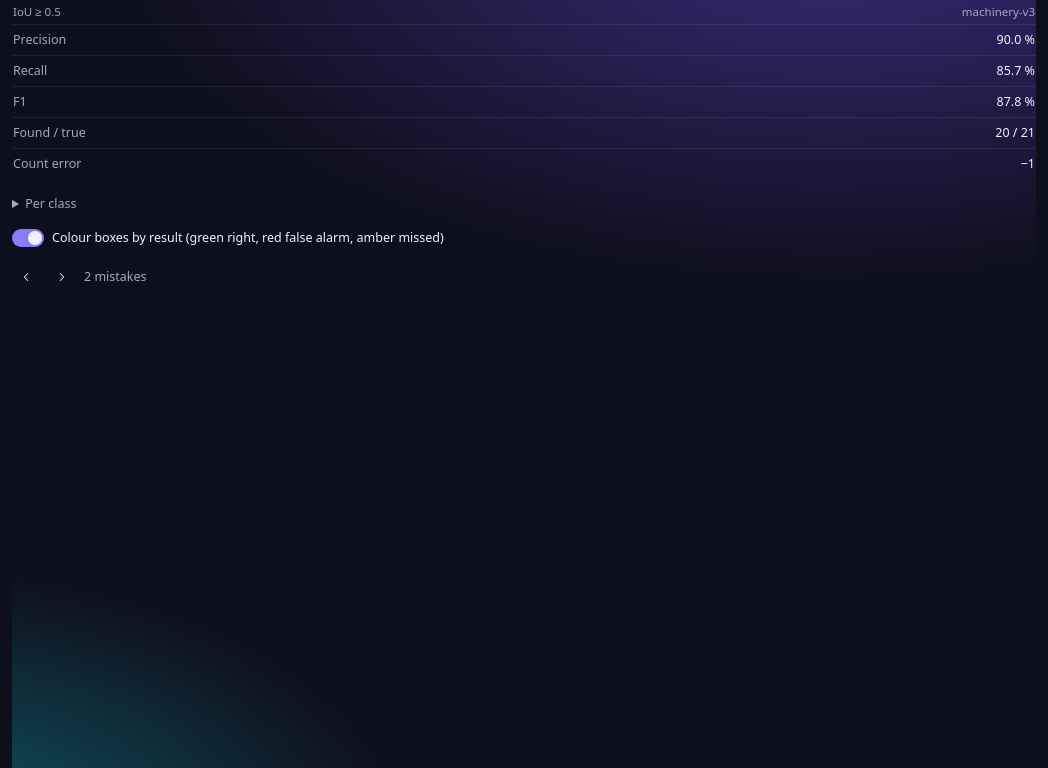
ScorePanel › steps through mistakes
Check: the text "2 mistakes" is shown, box [84,268,146,286]
What coordinates should you click on to do the following:
click the button named "Next mistake"
I would click on:
 (62, 277)
Its box is [48,263,76,291].
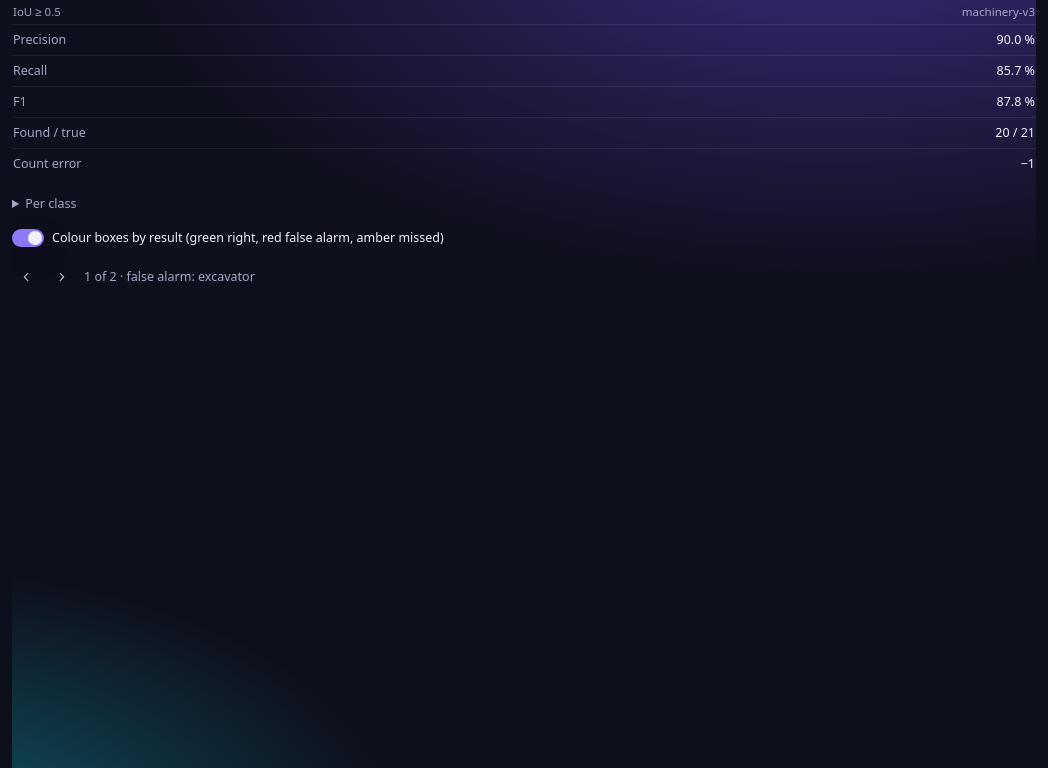
Check: the text "1 of 2 · false alarm: excavator" is shown, box [84,268,255,286]
What coordinates should you click on to do the following:
click the button named "Next mistake"
I would click on:
 (62, 277)
Its box is [48,263,76,291].
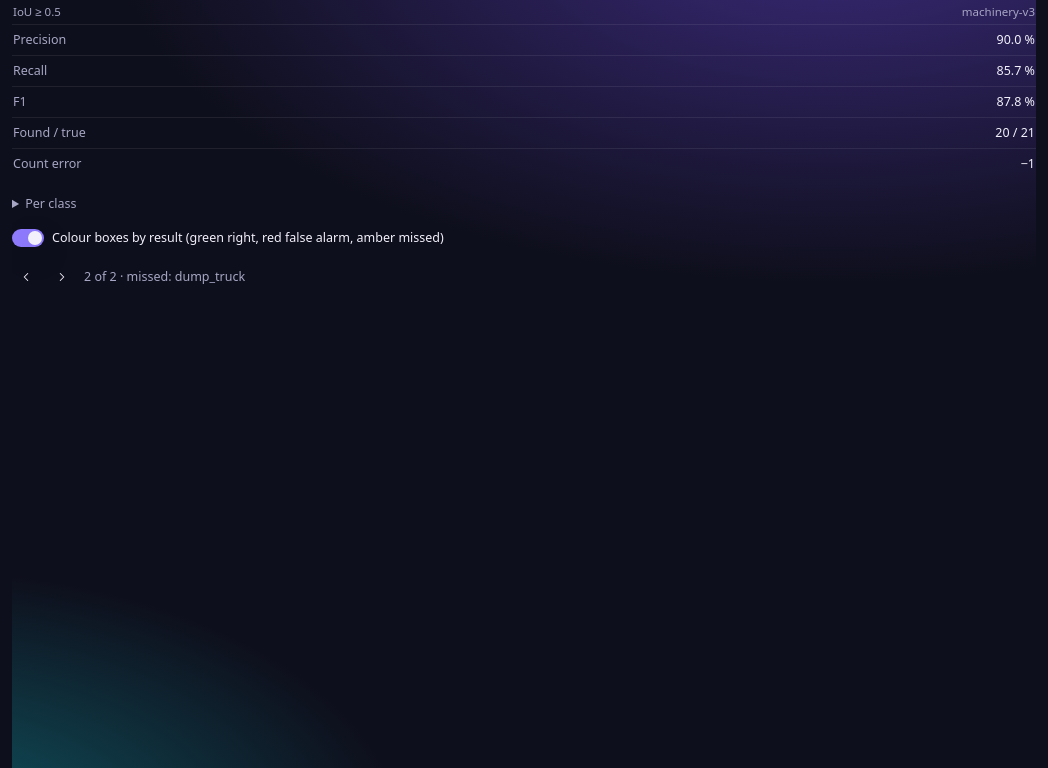
Check: the text "2 of 2 · missed: dump_truck" is shown, box [84,268,245,286]
